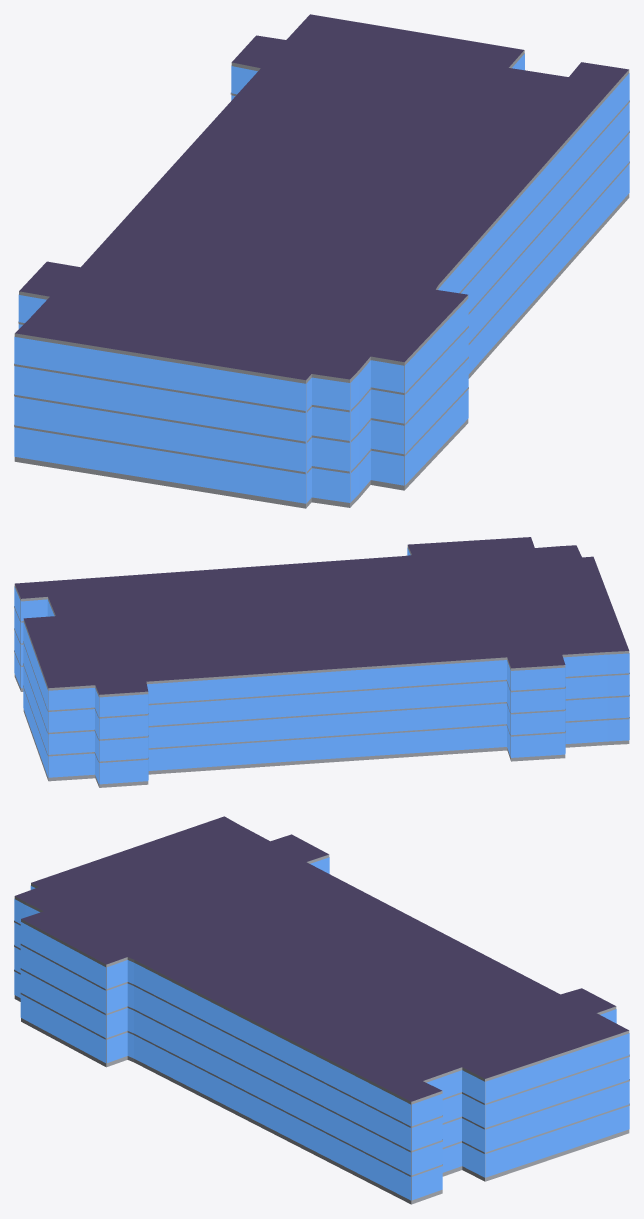
File: core-north-campus-building.glb
The picture shows the model from 3 angles, top to bottom: view 1: azimuth 30°, elevation 25°; view 2: azimuth 150°, elevation 25°; view 3: azimuth 270°, elevation 25°; orthographic projection. The views are drawn at different scales.
Visible parts, largest first — view 1: campus/core-north-campus-building-0; view 2: campus/core-north-campus-building-0; view 3: campus/core-north-campus-building-0.
Boxes of the visible parts, x1,y1,x2,y2 form: campus/core-north-campus-building-0: [14, 14, 629, 508]; campus/core-north-campus-building-0: [14, 537, 629, 787]; campus/core-north-campus-building-0: [14, 816, 629, 1204].
Size of the model in its own units: 90.09 by 15.1 by 82.02.
